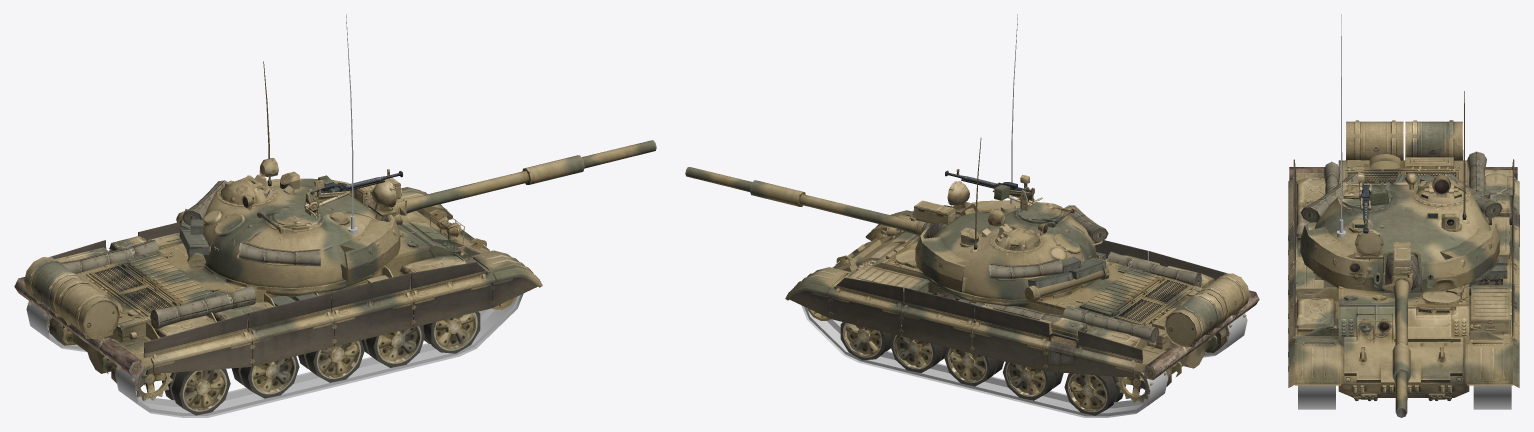
The picture shows the model from 3 angles, left to right: view 1: azimuth 30°, elevation 25°; view 2: azimuth 150°, elevation 25°; view 3: azimuth 270°, elevation 25°; orthographic projection. The views are drawn at different scales.
Parts seen in each view (by area): view 1: turret, hull, hullb, track, guards, gear01, weapon, armor, accessories, skirt7, skirt5, skirt3 (+28 smaller); view 2: turret, hullb, hull, track2, guards, gear01, weapon, accessories, armor, skirt8, skirt4, skirt6 (+30 smaller); view 3: hull, turret, accessories, mv-hull, armor, gear01, guards, hullb, weapon, track2, track, lens03 (+14 smaller).
Boxes of the visible parts, x1=… form: turret: x1=176, y1=61, x2=402, y2=287; hull: x1=63, y1=187, x2=536, y2=367; hullb: x1=50, y1=250, x2=384, y2=386; track: x1=115, y1=293, x2=523, y2=417; guards: x1=144, y1=267, x2=542, y2=365; gear01: x1=24, y1=257, x2=119, y2=339; weapon: x1=367, y1=140, x2=656, y2=215; armor: x1=266, y1=178, x2=400, y2=281; accessories: x1=55, y1=233, x2=465, y2=337; skirt7: x1=249, y1=322, x2=333, y2=366; skirt5: x1=331, y1=302, x2=412, y2=346; skirt3: x1=410, y1=283, x2=491, y2=327; turret: x1=933, y1=138, x2=1109, y2=301; hullb: x1=921, y1=253, x2=1226, y2=389; hull: x1=788, y1=210, x2=1212, y2=373; track2: x1=801, y1=305, x2=1168, y2=417; guards: x1=785, y1=282, x2=1142, y2=370; gear01: x1=1164, y1=273, x2=1249, y2=347; weapon: x1=685, y1=167, x2=960, y2=234; accessories: x1=848, y1=255, x2=1214, y2=346; armor: x1=915, y1=200, x2=1039, y2=292; skirt8: x1=972, y1=331, x2=1048, y2=371; skirt4: x1=830, y1=296, x2=903, y2=335; skirt6: x1=901, y1=314, x2=974, y2=353; hull: x1=1295, y1=160, x2=1512, y2=401; turret: x1=1314, y1=91, x2=1490, y2=291; accessories: x1=1295, y1=170, x2=1512, y2=333; mv-hull: x1=1344, y1=312, x2=1462, y2=383; armor: x1=1300, y1=225, x2=1499, y2=292; gear01: x1=1346, y1=120, x2=1462, y2=160; guards: x1=1288, y1=177, x2=1519, y2=387; hullb: x1=1313, y1=154, x2=1513, y2=286; weapon: x1=1382, y1=253, x2=1410, y2=417; track2: x1=1473, y1=385, x2=1511, y2=409; track: x1=1298, y1=385, x2=1335, y2=409; lens03: x1=1349, y1=178, x2=1450, y2=272.
Bounding box in the file's own units: 1019 × 567 × 343.
